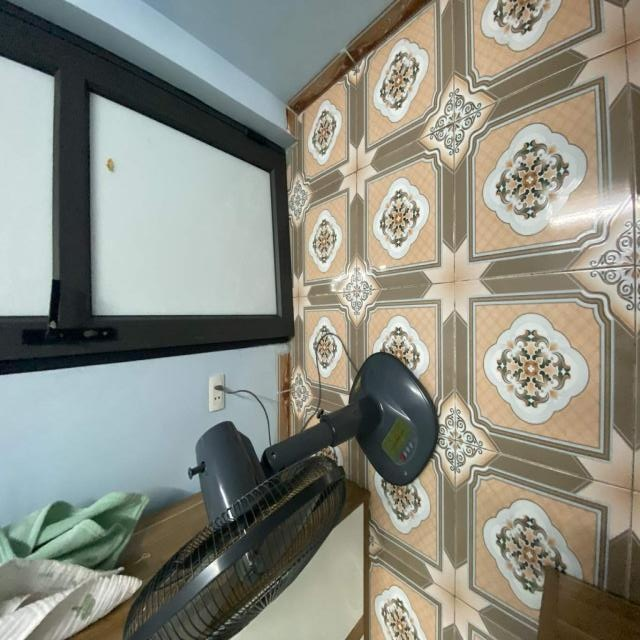outlet: (208, 373, 225, 412)
